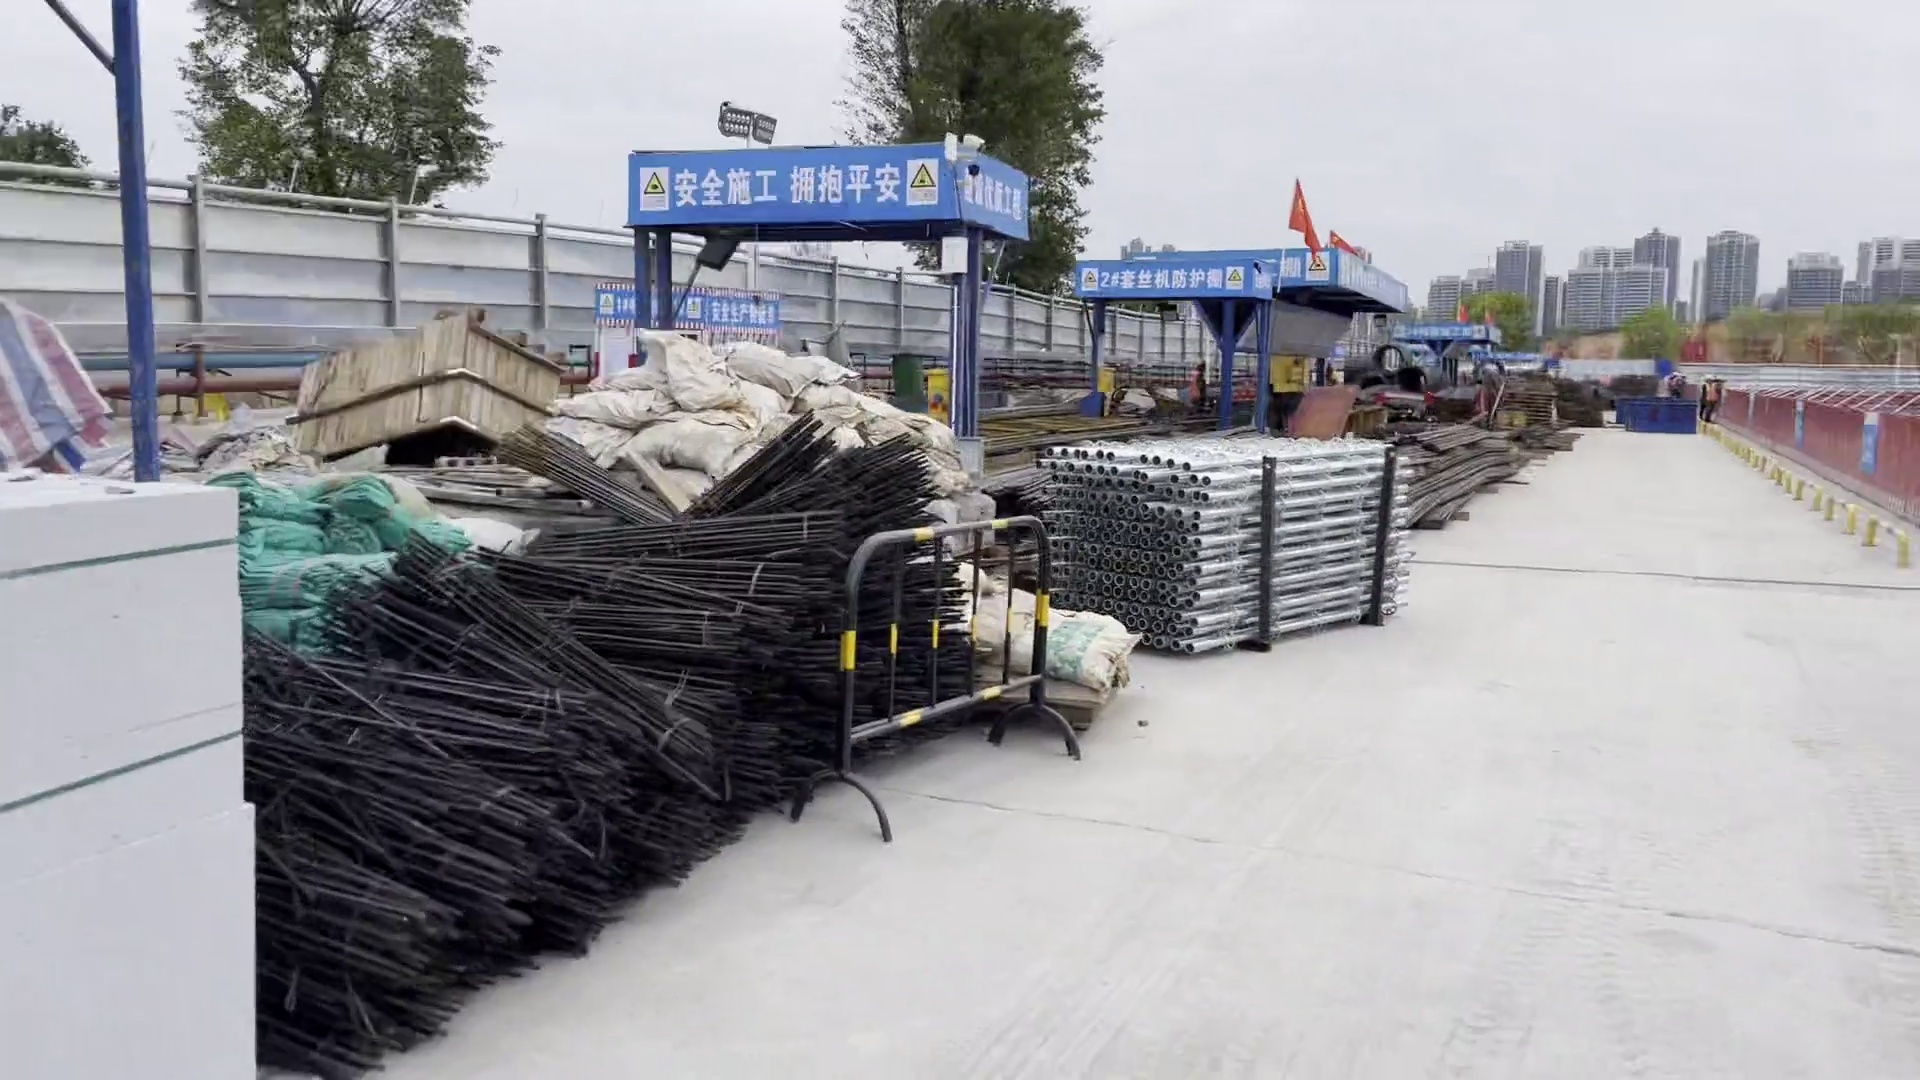brick: (1, 411, 299, 1080)
ebox: (908, 370, 955, 431), (1086, 362, 1113, 400)
fence: (1696, 386, 1920, 544)
helmet: (1705, 375, 1713, 383), (1716, 377, 1725, 383), (1680, 373, 1687, 379), (1672, 373, 1678, 377)
hopper: (1600, 398, 1700, 437)
person: (1698, 374, 1713, 420), (1708, 377, 1724, 418), (1666, 371, 1687, 397)
rebar: (1355, 419, 1525, 538)
scaffold: (1060, 428, 1408, 643)
slogan: (672, 157, 910, 216)
vest: (1702, 383, 1711, 400), (1712, 385, 1721, 401), (1673, 379, 1681, 391), (1668, 377, 1673, 389)
